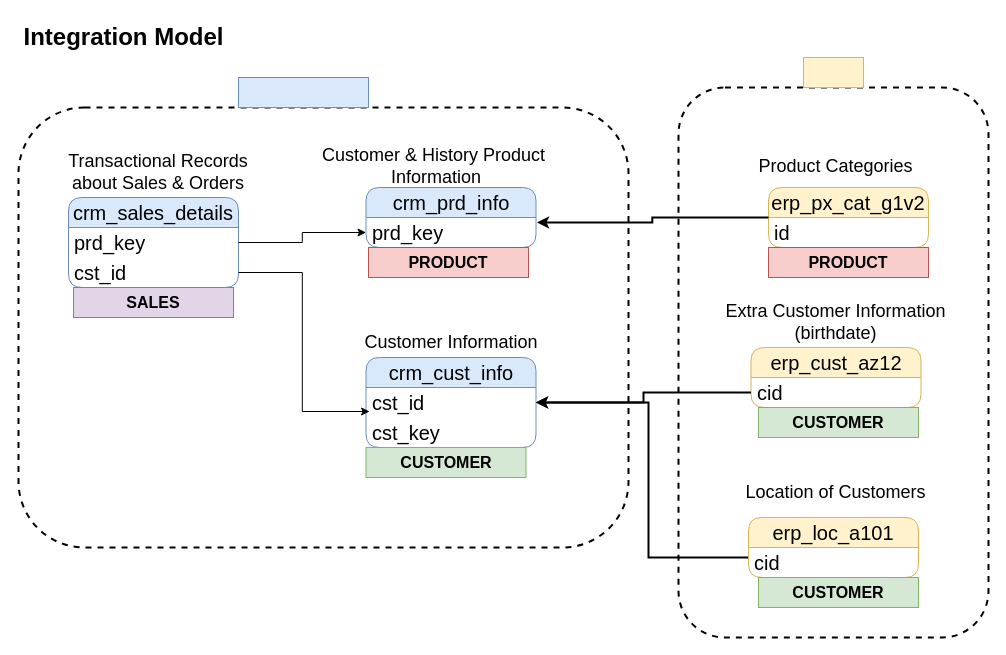
The diagram is 1006 pixels wide and 655 high, and some of its shapes have lost their labels. The centre of each missing label's shape, as x and y in pixels:
CRM: the point at 303,92
ERP: the point at 833,72
